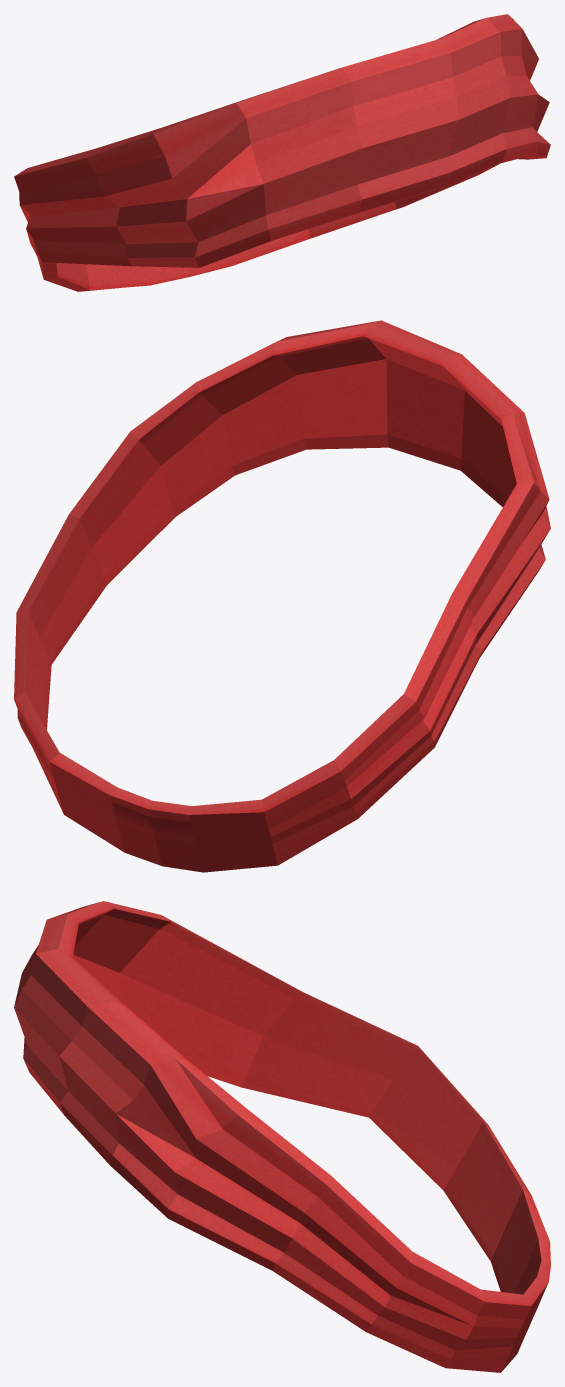
File: Sports_Handband_Test2.fbx
3 views of the same model, one above another, from view 1: azimuth 30°, elevation 25°; view 2: azimuth 150°, elevation 25°; view 3: azimuth 270°, elevation 25° (orthographic). The views are drawn at different scales.
Visible parts, largest first — view 1: Sports_headband; view 2: Sports_headband; view 3: Sports_headband.
Part boxes in pixels (x1,y1,x2,y2): Sports_headband: (14,14,550,291); Sports_headband: (14,320,550,872); Sports_headband: (14,901,550,1372).
Size of the model in its own units: 45.6 by 40.46 by 49.93.
1 material, 1 textured.
